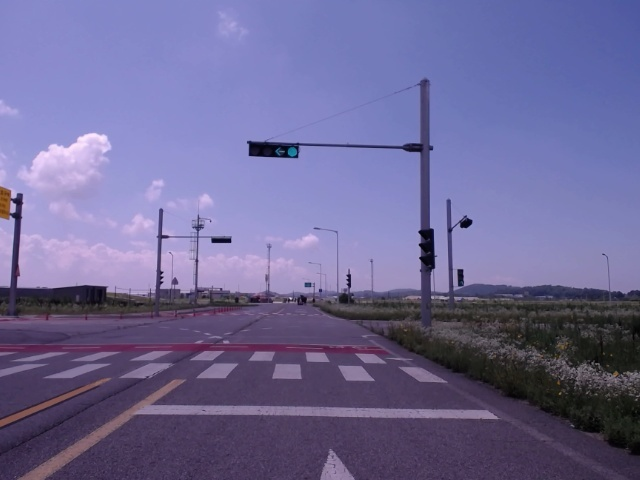all_green_4: (255, 140, 302, 158)
